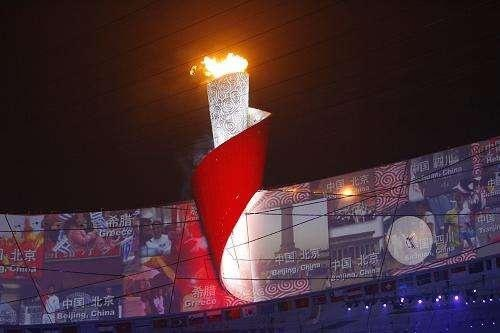fire: (189, 51, 249, 82)
